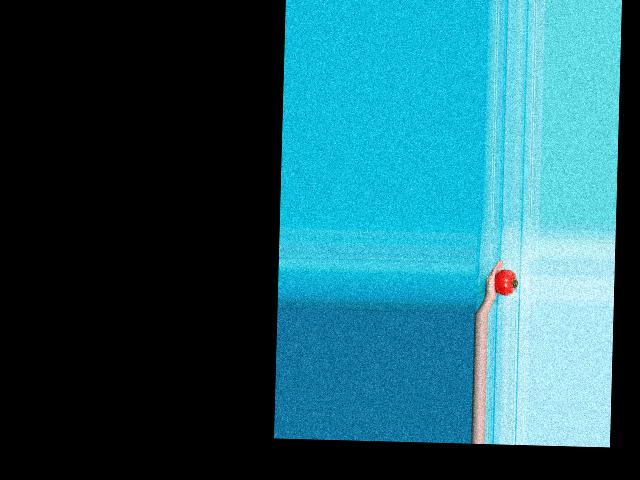tomato: (493, 268, 517, 295)
